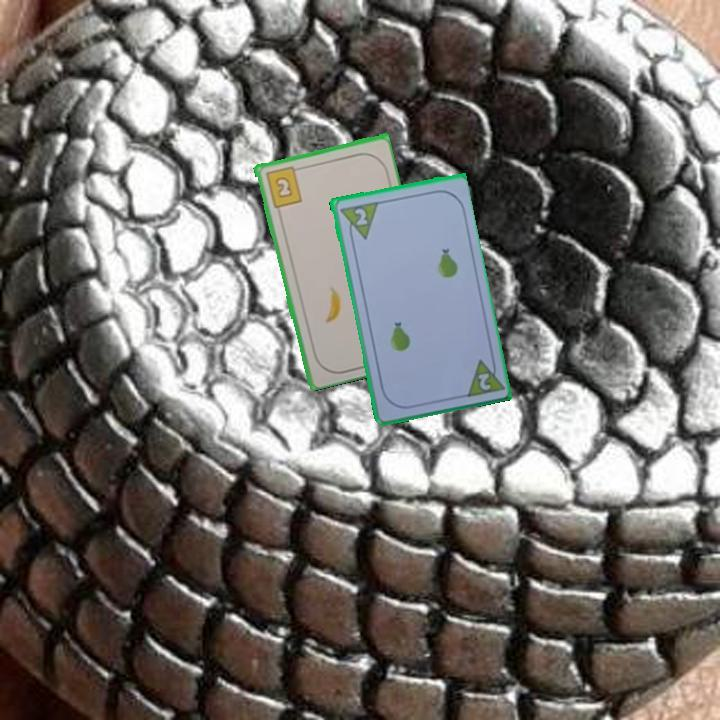2b: (262, 162, 304, 210)
2p: (336, 198, 380, 244), (474, 369, 493, 393)
